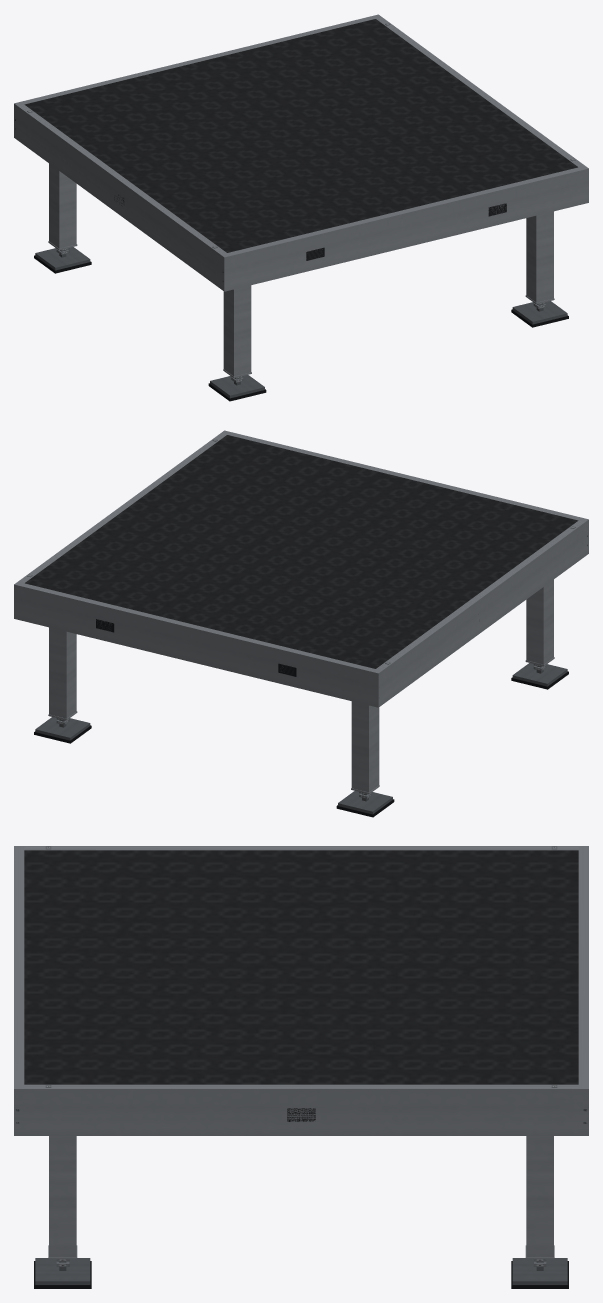
Rendered from stage_extension_1x1_h040.obj.
The picture shows the model from 3 angles, top to bottom: view 1: azimuth 30°, elevation 25°; view 2: azimuth 150°, elevation 25°; view 3: azimuth 270°, elevation 25°; orthographic projection. The views are drawn at different scales.
Parts seen in each view (by area): view 1: part_4, part_43, part_81, part_631, part_379, part_124, part_28, part_100, part_64, part_253, part_615, part_363 (+6 smaller); view 2: part_4, part_6, part_81, part_498, part_246, part_64, part_100, part_124, part_28, part_372, part_489, part_237 (+6 smaller); view 3: part_4, part_104, part_494, part_620, part_124, part_28, part_100, part_64, part_460, part_586, part_46, part_122 (+1 smaller).
Boxes of the visible parts, <box> form: part_4: <box>24,19,577,252</box>; part_43: <box>224,168,588,291</box>; part_81: <box>15,105,223,290</box>; part_631: <box>537,211,552,302</box>; part_379: <box>235,285,250,375</box>; part_124: <box>376,17,583,167</box>; part_28: <box>16,15,381,105</box>; part_100: <box>18,104,226,254</box>; part_64: <box>221,166,588,256</box>; part_253: <box>60,172,75,248</box>; part_615: <box>526,216,536,302</box>; part_363: <box>223,289,233,376</box>; part_4: <box>25,435,578,668</box>; part_6: <box>14,584,378,707</box>; part_81: <box>379,520,587,706</box>; part_498: <box>50,627,65,718</box>; part_246: <box>352,701,367,791</box>; part_64: <box>221,431,587,521</box>; part_100: <box>376,520,584,670</box>; part_124: <box>18,433,226,583</box>; part_28: <box>15,582,381,672</box>; part_372: <box>527,588,542,664</box>; part_489: <box>66,632,76,718</box>; part_237: <box>369,705,379,792</box>; part_4: <box>24,850,578,1084</box>; part_104: <box>16,1089,586,1135</box>; part_494: <box>526,1136,553,1256</box>; part_620: <box>49,1136,76,1256</box>; part_124: <box>24,1084,578,1088</box>; part_28: <box>578,846,588,1088</box>; part_100: <box>24,846,578,850</box>; part_64: <box>14,846,24,1088</box>; part_460: <box>512,1258,567,1281</box>; part_586: <box>35,1258,90,1281</box>; part_46: <box>14,846,16,1088</box>; part_122: <box>24,1089,578,1090</box>.
Size of the model in its own units: 1 by 0.401 by 1.
Materials: 3 (3 with a texture image).
